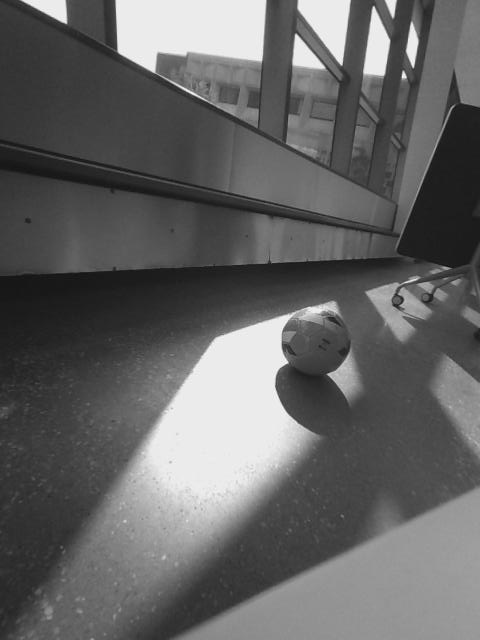ball: (280, 302, 353, 377)
